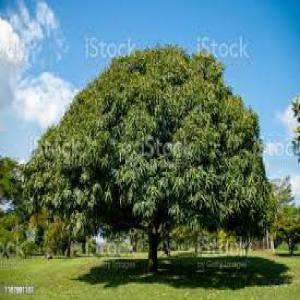Tree: (23, 44, 276, 267)
